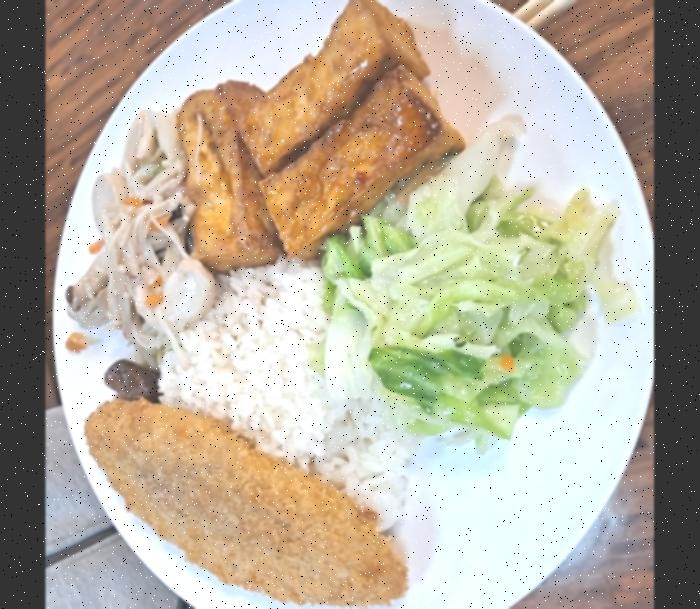fried cod steak: (83, 399, 407, 608)
plate: (52, 0, 653, 609)
side dish: (317, 130, 637, 444), (178, 0, 465, 266), (60, 104, 212, 344)
white rice: (162, 264, 410, 524)
